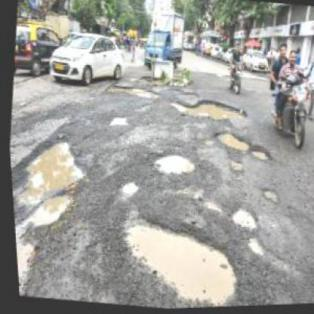Hueco: (111, 212, 244, 310), (7, 131, 92, 234), (165, 94, 248, 128), (149, 149, 195, 181), (106, 82, 162, 102), (211, 129, 249, 155), (227, 206, 257, 233), (242, 238, 264, 258), (258, 187, 278, 208), (248, 146, 270, 165), (117, 180, 138, 196), (106, 113, 126, 129), (225, 160, 241, 173)
